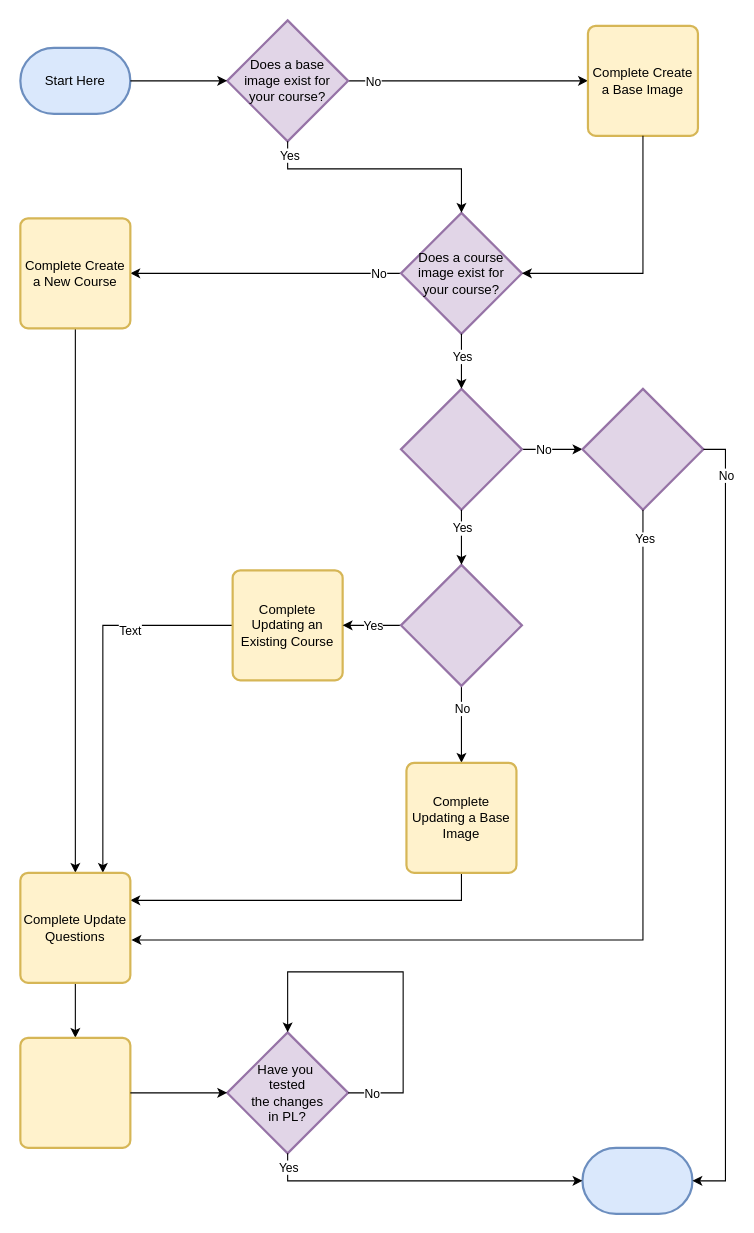
Image size: 754x1233. Some labels were removed from this diagram. The shapes that lost their labels are listed below. From the top down, each one's centre as x and y in pixels, then its label:
At [460,448]: "Do you need to install a new package?".
At [642,448]: "Do you need to update any questions?".
At [460,624]: "Is this package course specific?".
At [75,1092]: "Complete Sync to PrairieLearn".
At [637,1180]: "End".
